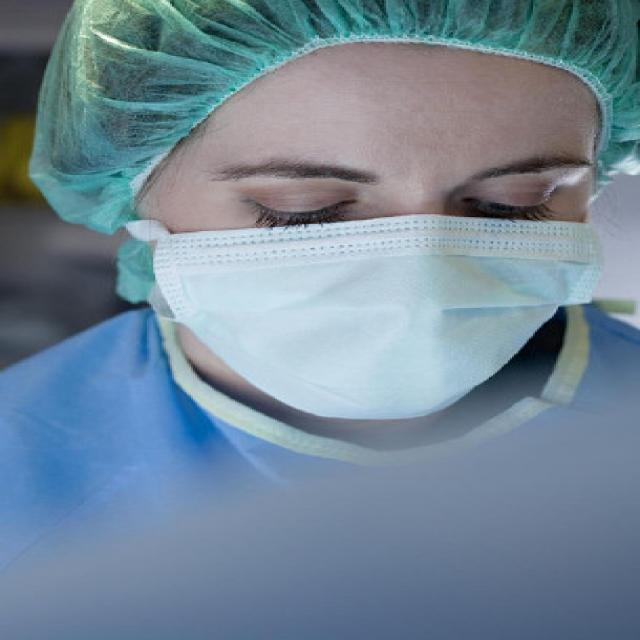mask: (156, 37, 604, 420)
